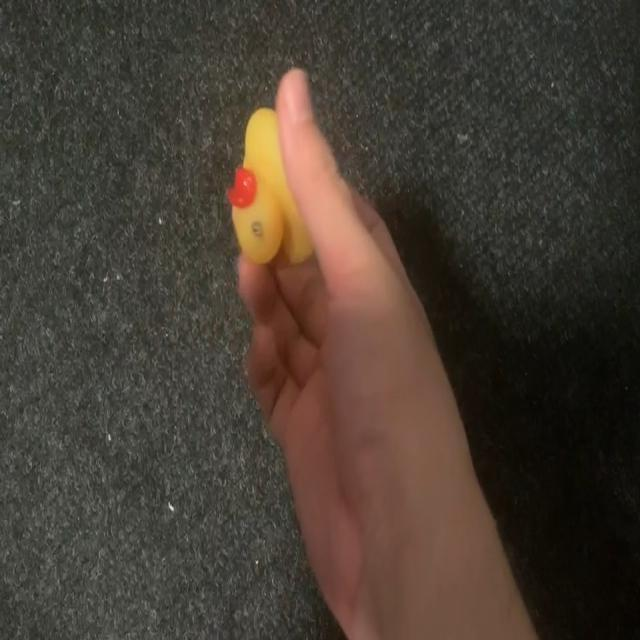rubber-duck: (226, 107, 311, 262)
